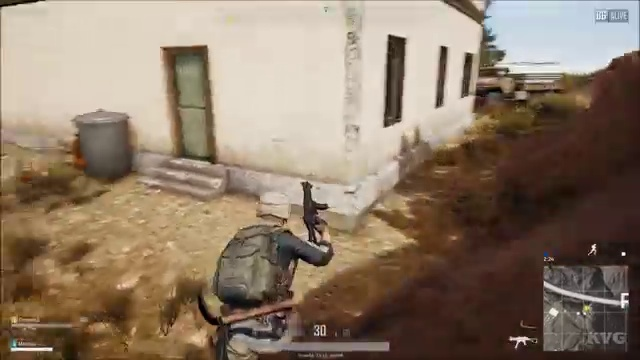Player: (209, 183, 355, 320)
